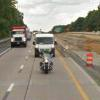Motorcycle: (38, 43, 56, 74)
